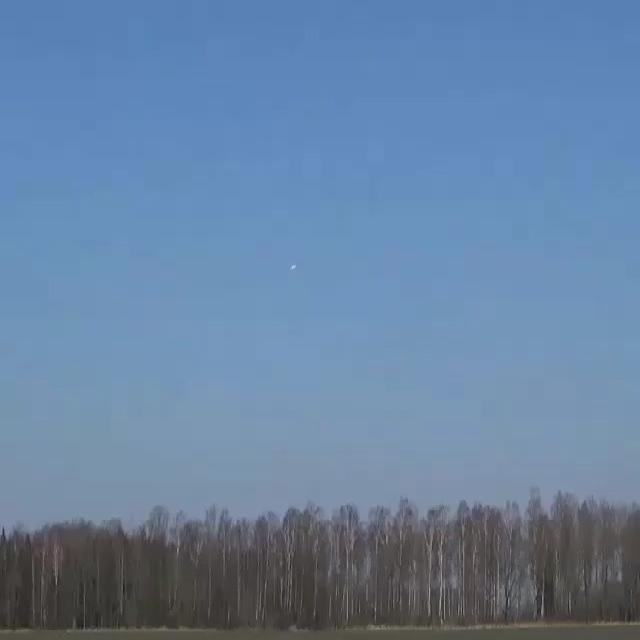drone: (290, 264, 297, 271)
